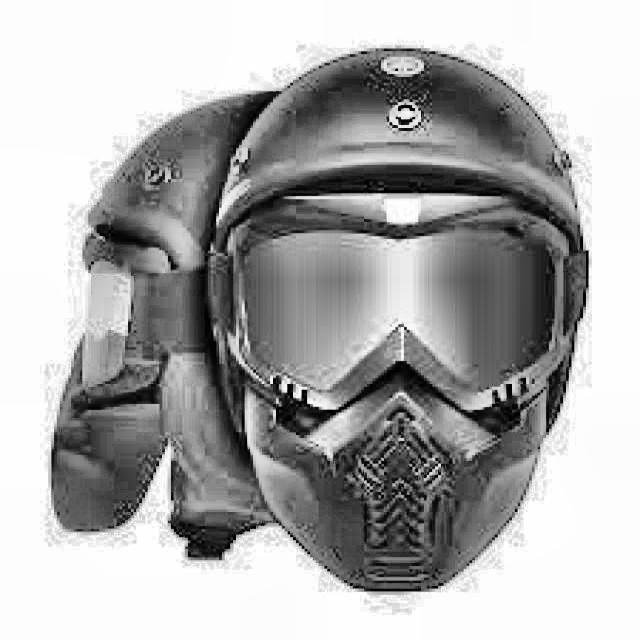Helmet: (220, 39, 595, 605)
